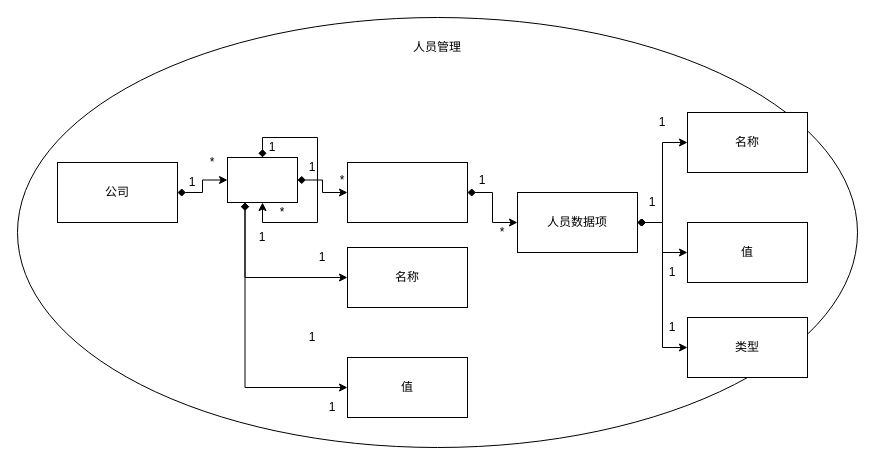
Image size: 875x465. Some labels were removed from this diagram. Here are the shapes that lost their labels. From the top down, the centre of each, then its label:
At (262,179): "节点".
At (407,192): "人员".
